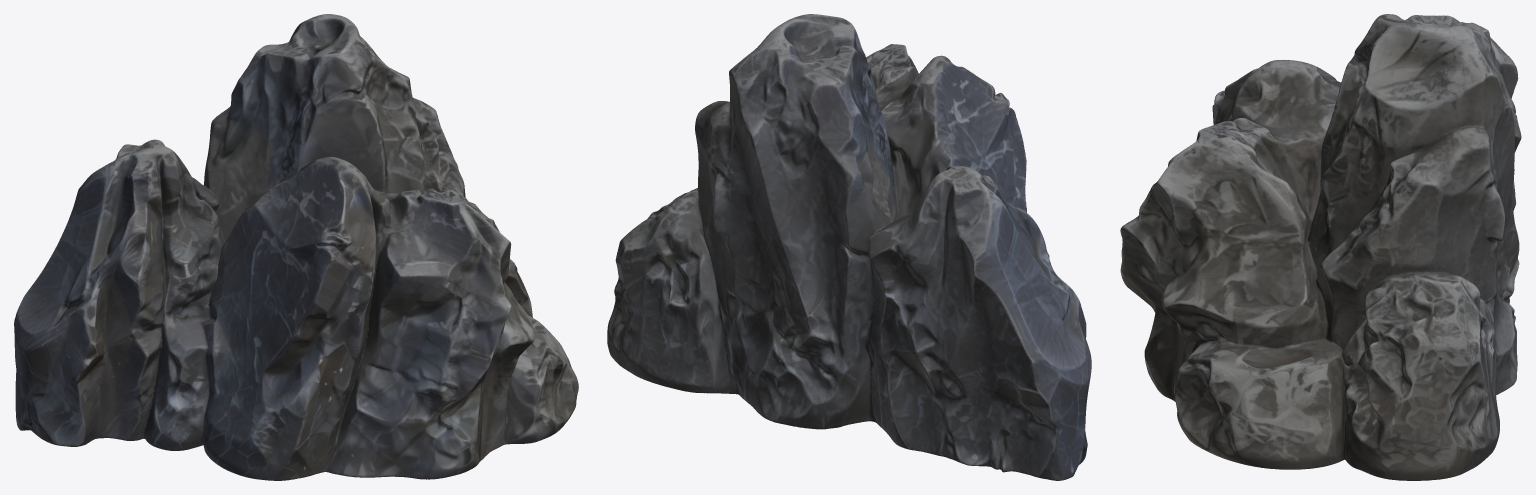
Rendered from rock_cluster_02.glb.
3 views of the same model, side by side, from view 1: azimuth 30°, elevation 25°; view 2: azimuth 150°, elevation 25°; view 3: azimuth 270°, elevation 25° (orthographic). The views are drawn at different scales.
Visible parts, largest first — view 1: tripo_node_8df25fc9-3f9a-4a40-9410-90cc0d289931; view 2: tripo_node_8df25fc9-3f9a-4a40-9410-90cc0d289931; view 3: tripo_node_8df25fc9-3f9a-4a40-9410-90cc0d289931.
Boxes of the visible parts, x1,y1,x2,y2 form: tripo_node_8df25fc9-3f9a-4a40-9410-90cc0d289931: [14, 14, 578, 480]; tripo_node_8df25fc9-3f9a-4a40-9410-90cc0d289931: [607, 14, 1091, 480]; tripo_node_8df25fc9-3f9a-4a40-9410-90cc0d289931: [1120, 14, 1521, 480].
Bounding box in the file's own units: 1 × 0.7036 × 0.694.
Materials: 1 (1 with a texture image).
